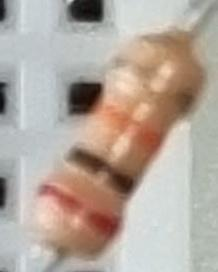Brown: (60, 140, 144, 200)
Orange: (86, 98, 166, 158)
Red: (32, 174, 123, 242)
Side-Silver: (103, 55, 199, 119)
